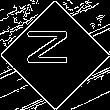N_E: (30, 35, 80, 75)
